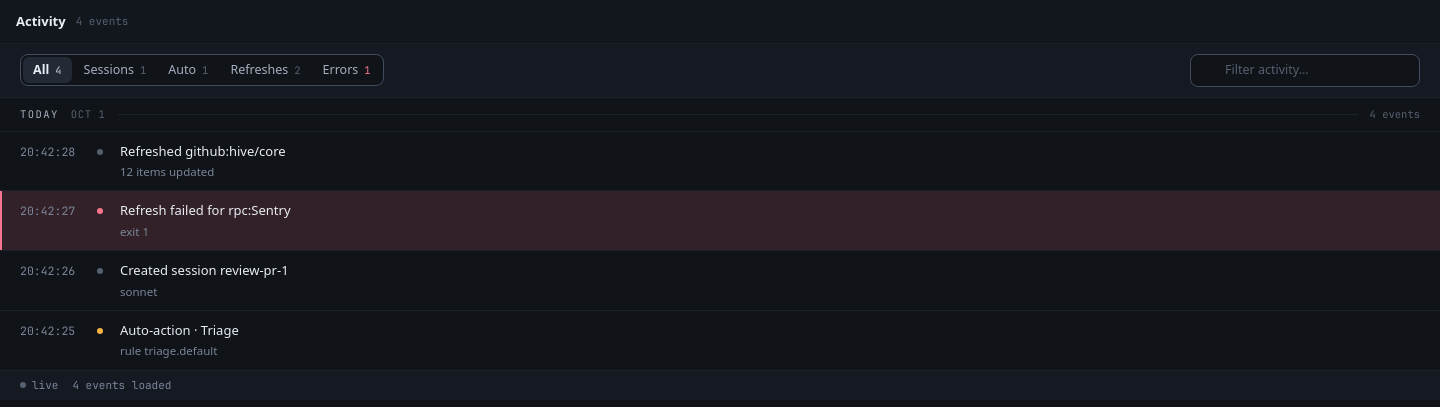
Test case: ActivityView › filters by the search box across title and body
Type "triage" into the field with test id "activity-search". click: {"x": 1317, "y": 70}
box: [1225, 61, 1409, 80]
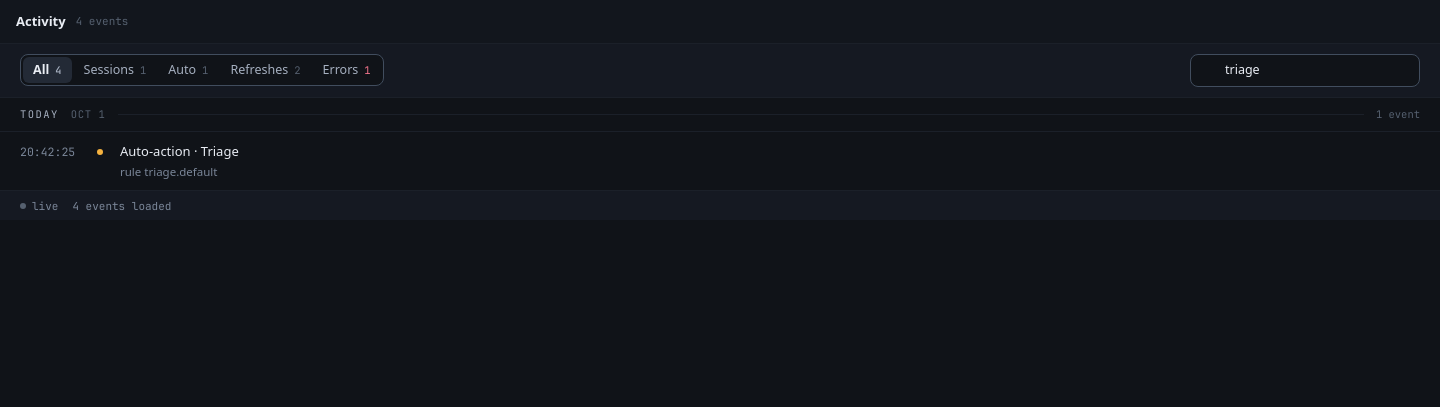
Expected: the element with test id "activity-row" shows "Auto-action", [120, 142, 239, 160]
Expected: the number of elements with test id "activity-row" is 1, [20, 142, 239, 179]
